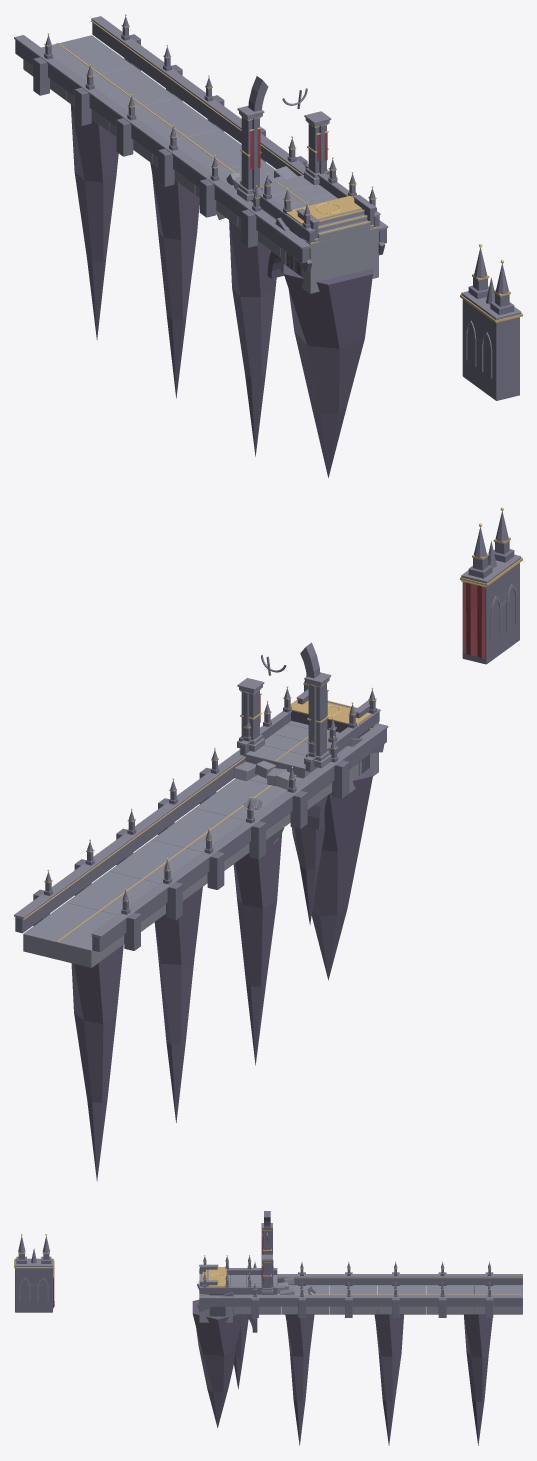
File: Entrances.fbx
3 views of the same model, one above another, from view 1: azimuth 30°, elevation 25°; view 2: azimuth 150°, elevation 25°; view 3: azimuth 270°, elevation 25° (orthographic). The views are drawn at different scales.
Visible parts, largest first — view 1: South_Approach, North_Stair, Bridge, Gatehouse; view 2: South_Approach, Bridge, North_Stair, Gatehouse; view 3: South_Approach, North_Stair, Bridge, Gatehouse.
Part boxes in pixels (x1=…): South_Approach: x1=14, y1=14, x2=388, y2=456; North_Stair: x1=283, y1=194, x2=376, y2=477; Bridge: x1=216, y1=76, x2=380, y2=278; Gatehouse: x1=460, y1=244, x2=522, y2=400; South_Approach: x1=14, y1=722, x2=388, y2=1181; Bridge: x1=233, y1=642, x2=380, y2=925; North_Stair: x1=290, y1=689, x2=376, y2=980; Gatehouse: x1=460, y1=507, x2=522, y2=664; South_Approach: x1=197, y1=1261, x2=522, y2=1445; North_Stair: x1=192, y1=1264, x2=242, y2=1427; Bridge: x1=199, y1=1211, x2=316, y2=1388; Gatehouse: x1=14, y1=1234, x2=54, y2=1312.
Size of the model in its own units: 5.91 by 22.65 by 45.6.
